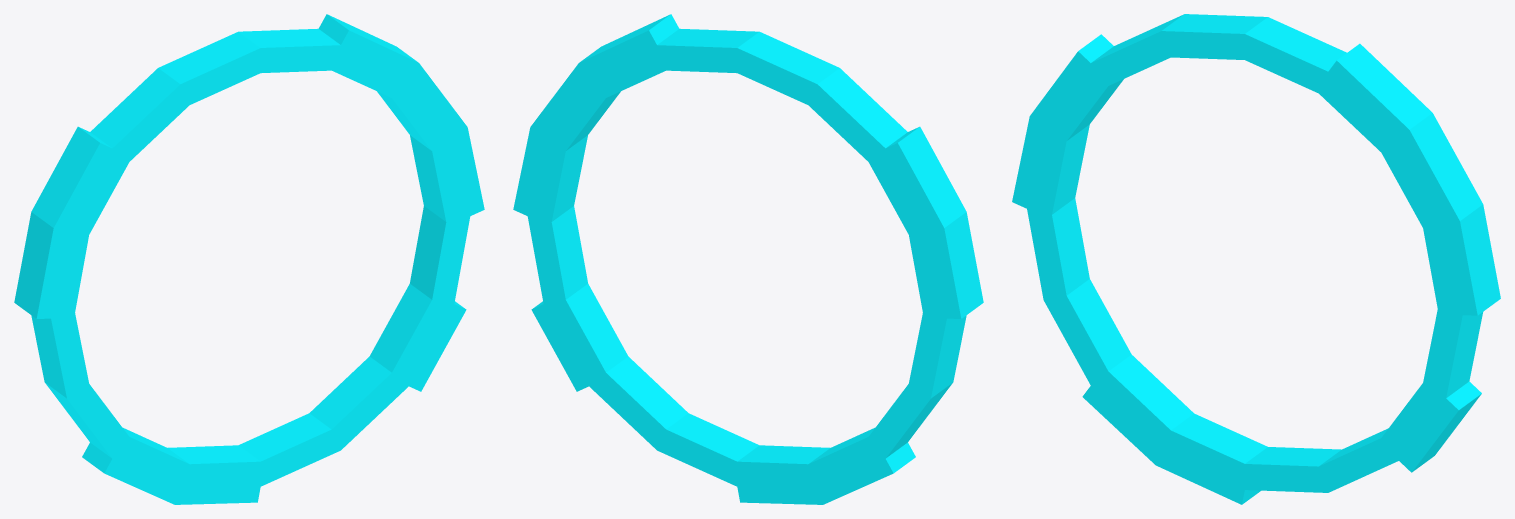
The model's file is SM_Hud_Rings_04.glb.
3 views of the same model, side by side, from view 1: azimuth 30°, elevation 25°; view 2: azimuth 150°, elevation 25°; view 3: azimuth 330°, elevation 25° (orthographic). The views are drawn at different scales.
Parts seen in each view (by area): view 1: SM_Hud_Rings_04; view 2: SM_Hud_Rings_04; view 3: SM_Hud_Rings_04.
Part boxes in pixels (box(x1,y1,x2,y2)): SM_Hud_Rings_04: box(14, 14, 484, 504); SM_Hud_Rings_04: box(513, 14, 983, 504); SM_Hud_Rings_04: box(1012, 14, 1500, 504).
Bounding box in the file's own units: 0.2513 × 0.2432 × 0.0217.
